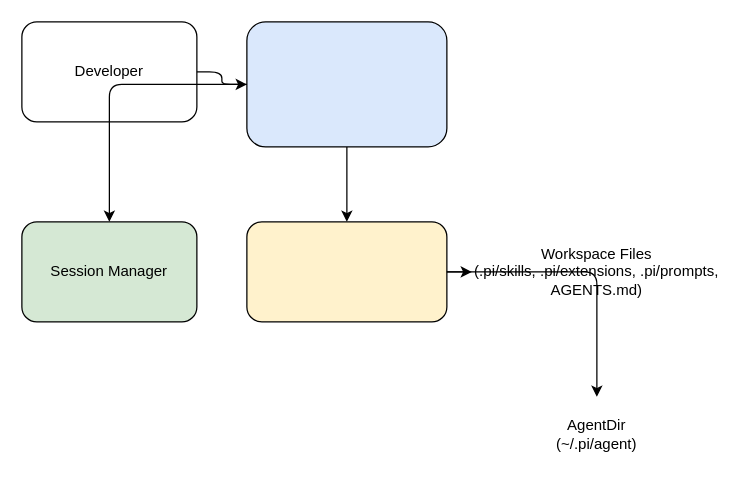
The diagram is 744 pixels wide and 494 high, and some of its shapes have lost their labels. The box of each missing label's shape, as (x1, y1, x2, y2) in pixels:
DefaultResourceLoader: (246, 221, 447, 322)
SDK Agent System: (246, 21, 447, 147)
